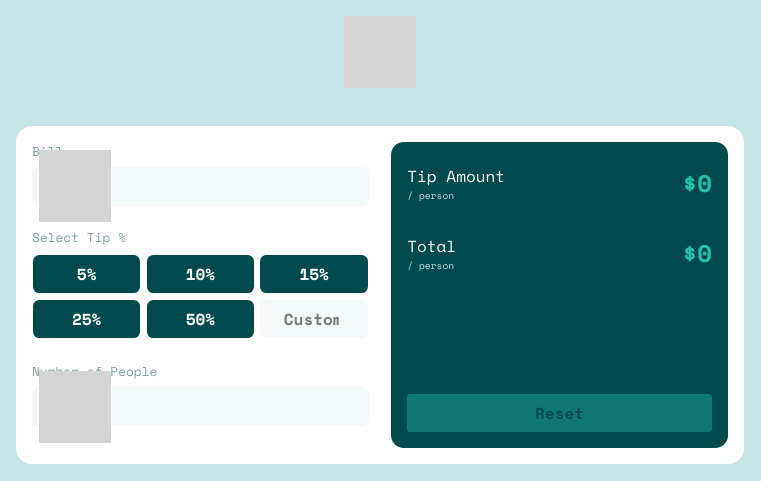
Test case: make a calc with avalilable tip options
The width and height of the screenshot is (761, 481).
Type "100" into the number field below "Bill" at (200, 186), box [39, 174, 361, 198]
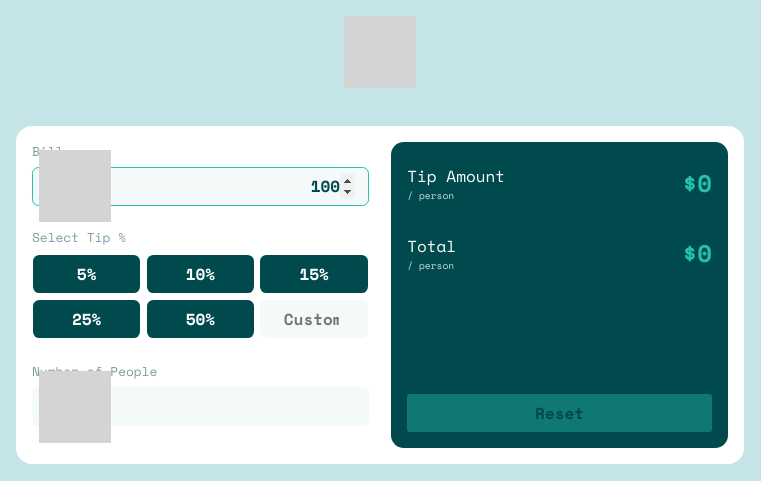
Check the radio button named "tipPercent" at (204, 320), box [147, 313, 261, 326]
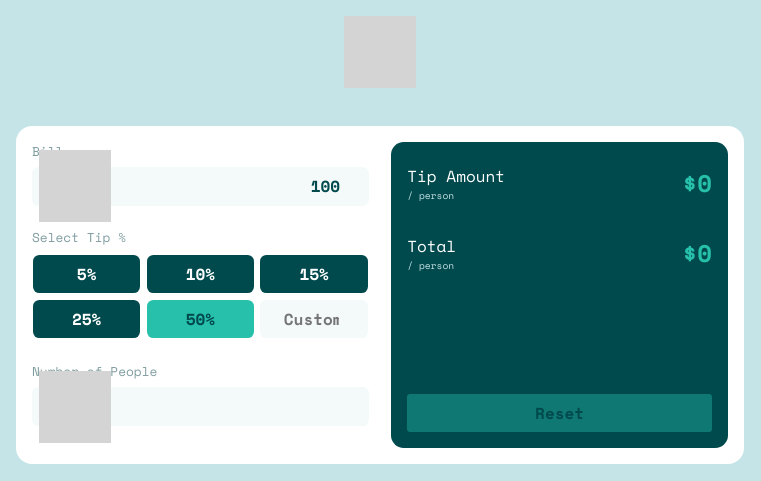
Type "2" into the number field below "Number of People" at (200, 407), box [39, 395, 361, 419]
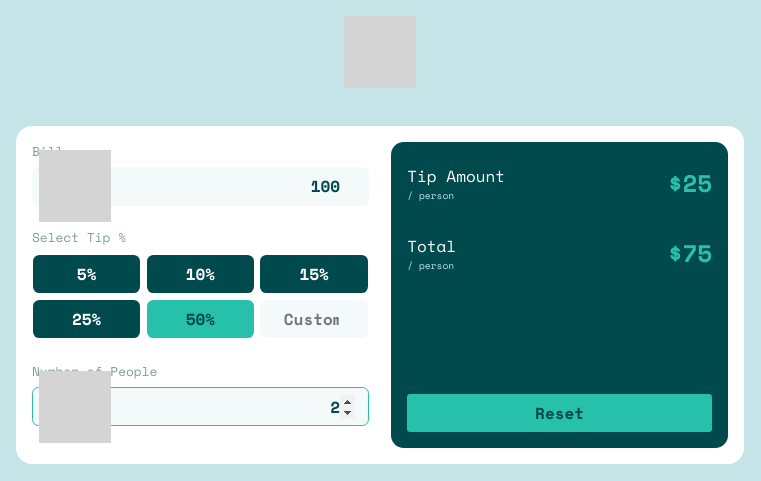
Check: the text with id "tipAmount" reads "25", box [683, 165, 712, 201]
Check: the text with id "totalValue" reads "75", box [683, 235, 712, 271]
